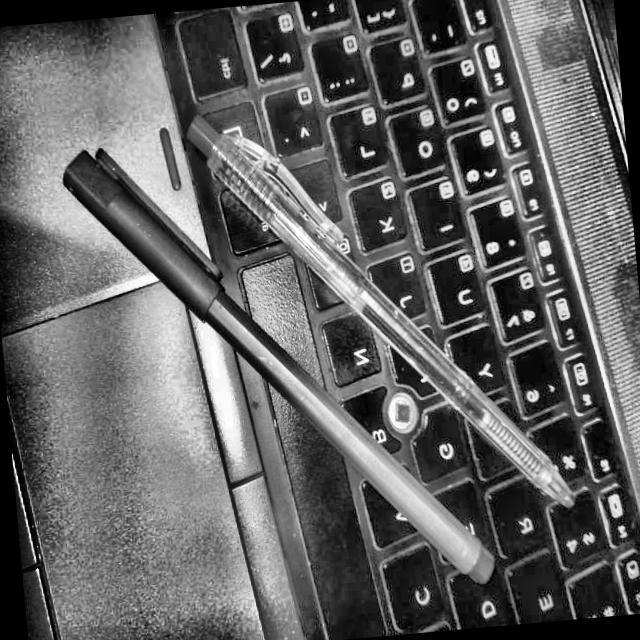Pen: (147, 56, 591, 542)
